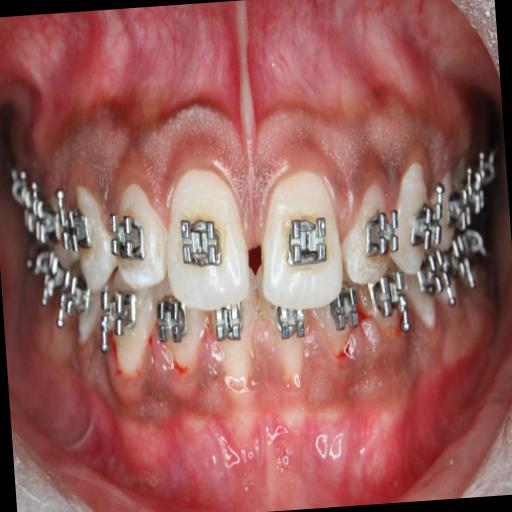correct_brace: (282, 210, 334, 273), (178, 211, 223, 279), (359, 203, 402, 267), (109, 210, 147, 268)
incorrect_brace: (336, 170, 404, 286), (107, 181, 168, 290)
